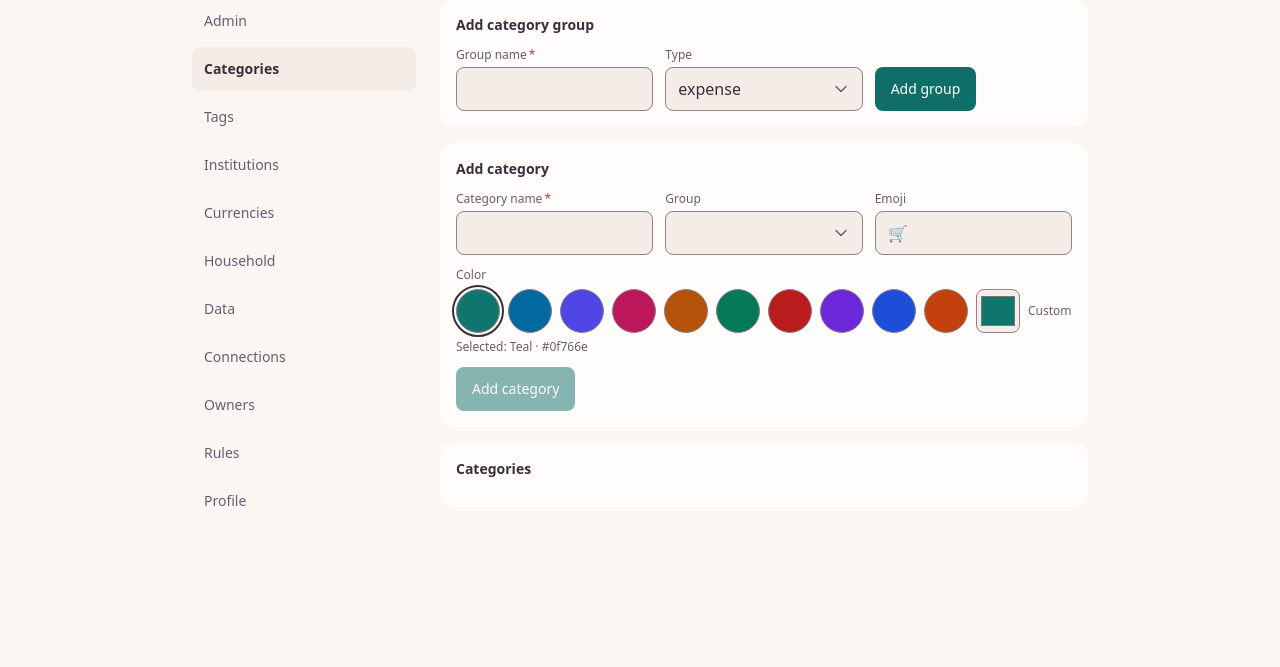
Scenario: Settings → Data › does not import with nothing picked
Click the tab with test id "settings-tab-data" at (304, 309), box [192, 287, 416, 331]
(page scrolled)
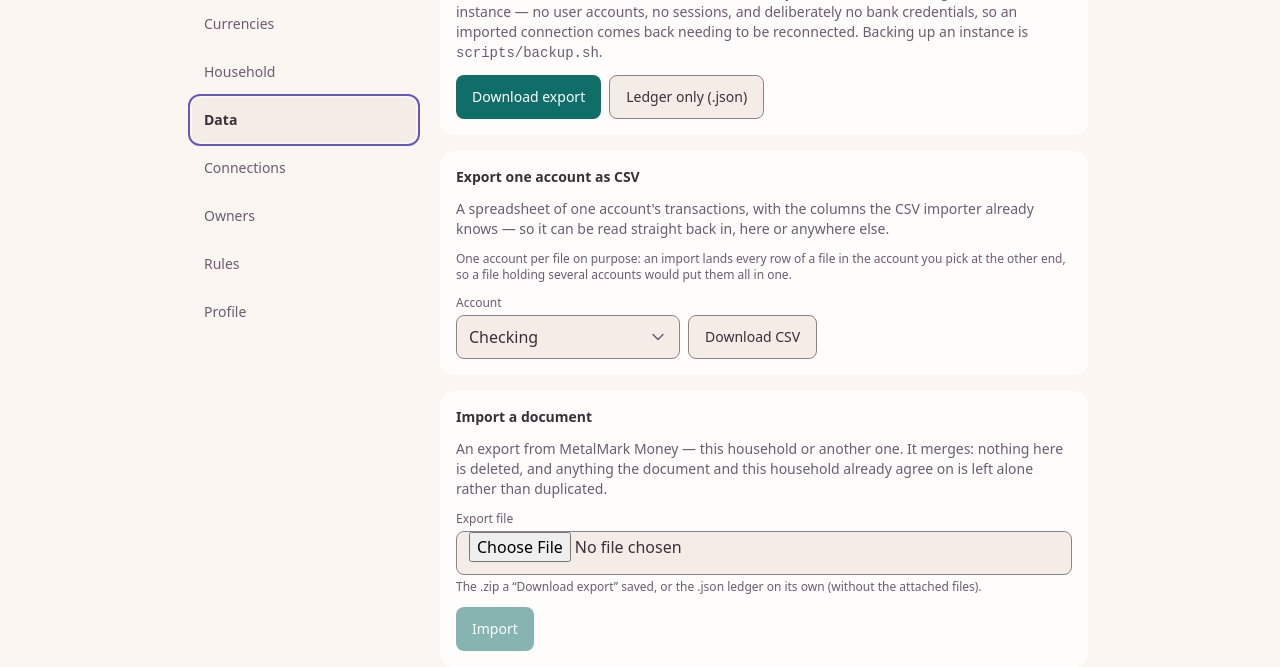
Now the button with test id "import-document-submit" is disabled, box [456, 607, 534, 651]
